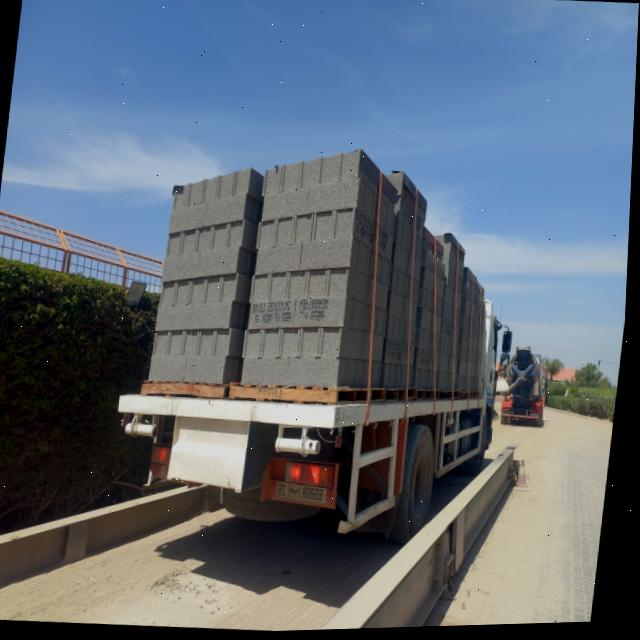bricks: (148, 149, 481, 391)
